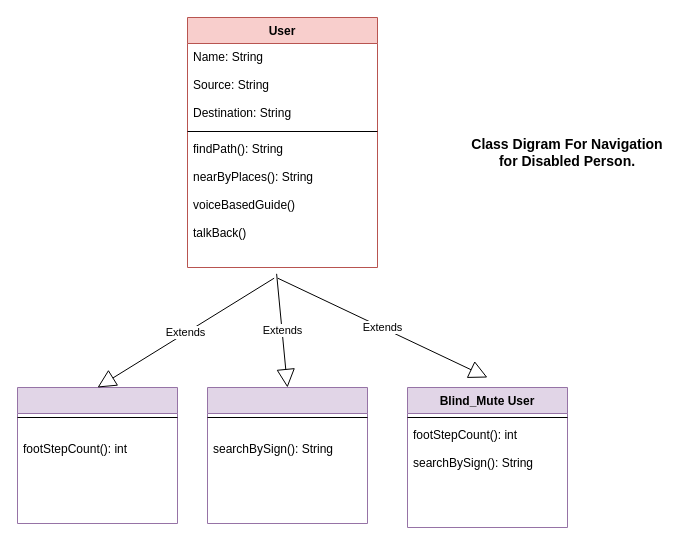
Image size: 685x548. Some labels were removed from this diagram. Each missing label, with the box of its shape:
Blind User: (16, 386, 178, 524)
Mute User: (206, 386, 368, 524)
